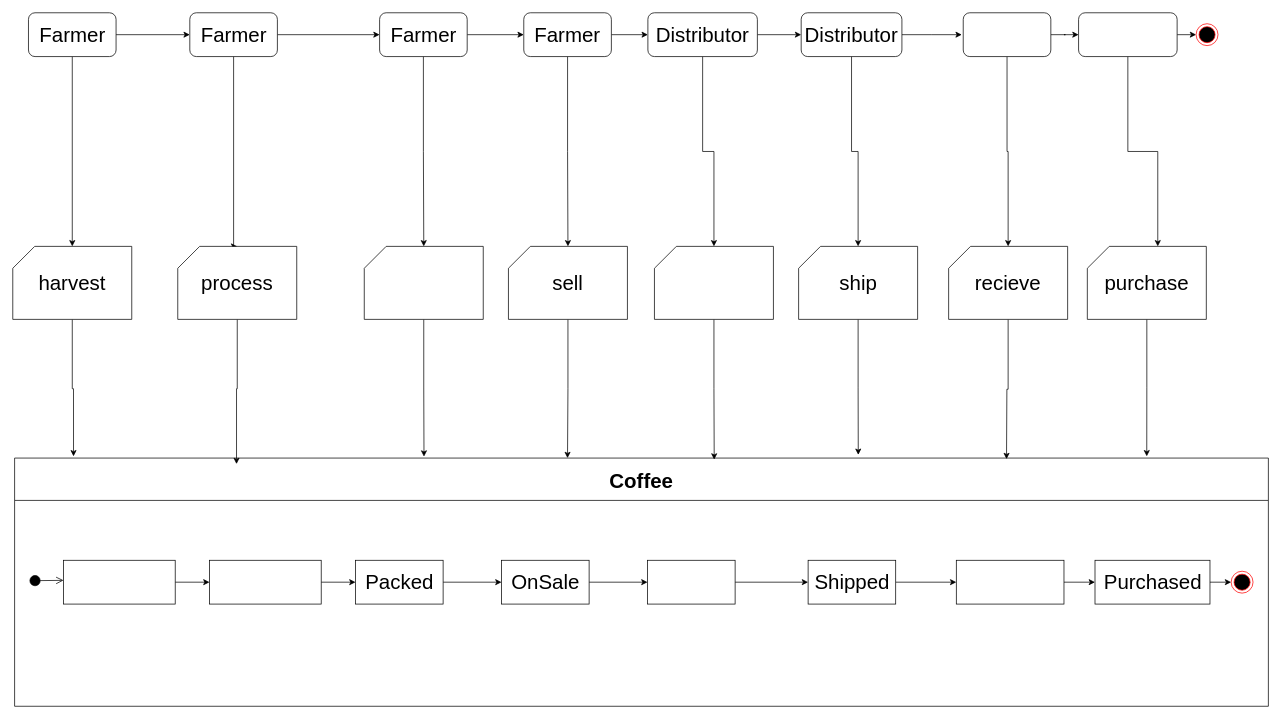
Some shapes in this 1281 by 719 pixel diagram are drawn without their labels. The centre of each missing label's shape, as x and y in pixels:
"buy" goes at (713,282).
"Consumer" goes at (1127,34).
"Harvested" goes at (119,582).
"pack" goes at (423,282).
"Processed" goes at (265,582).
"Received" goes at (1010,582).
"Retailer" goes at (1007,34).
"Sold" goes at (691,582).
